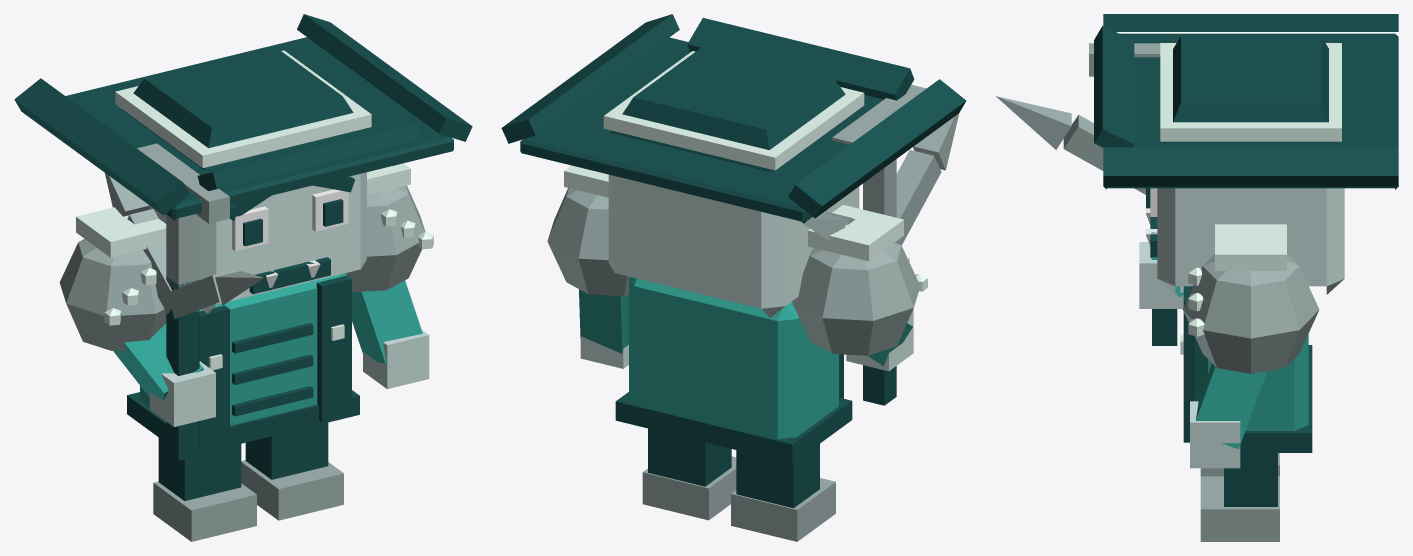
File: warlord_r14.glb
The picture shows the model from 3 angles, left to right: view 1: azimuth 30°, elevation 25°; view 2: azimuth 150°, elevation 25°; view 3: azimuth 270°, elevation 25°; orthographic projection. The views are drawn at different scales.
Parts seen in each view (by area): view 1: warlord_r14_mesh; view 2: warlord_r14_mesh; view 3: warlord_r14_mesh.
Part boxes in pixels (x1,y1,x2,y2): warlord_r14_mesh: [14, 14, 472, 541]; warlord_r14_mesh: [501, 14, 966, 541]; warlord_r14_mesh: [996, 14, 1398, 541].
Bounding box in the file's own units: 3.19 × 3.6 × 3.03.
Materials: 1 (1 with a texture image).
